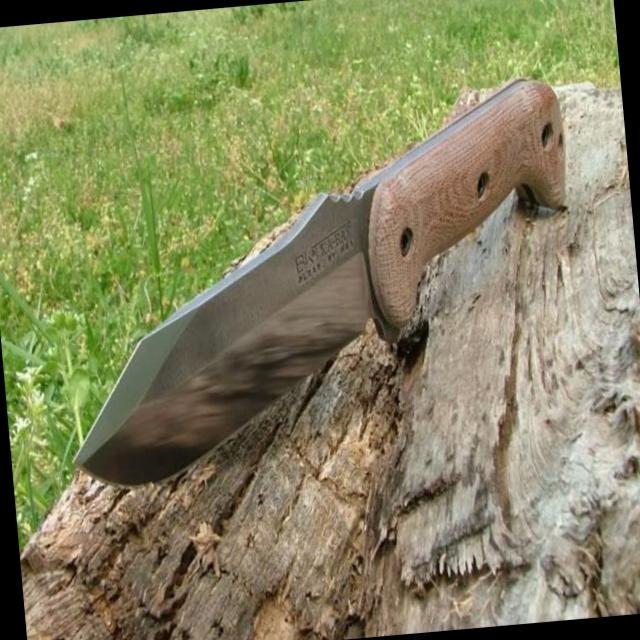Knife: (75, 79, 565, 482)
